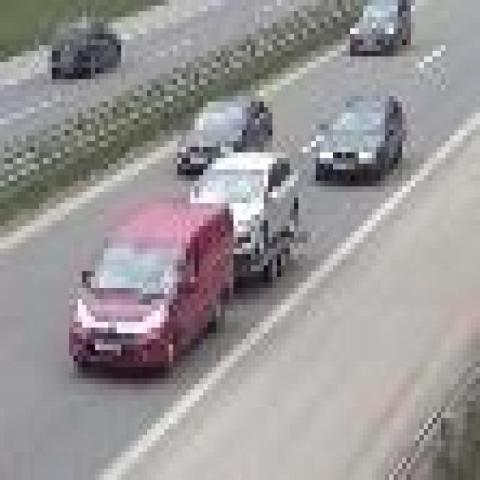car: (191, 153, 299, 254), (314, 99, 400, 184), (180, 96, 271, 176), (52, 14, 122, 76), (350, 0, 410, 56)
truck: (479, 19, 480, 19)
van: (71, 200, 232, 376)
